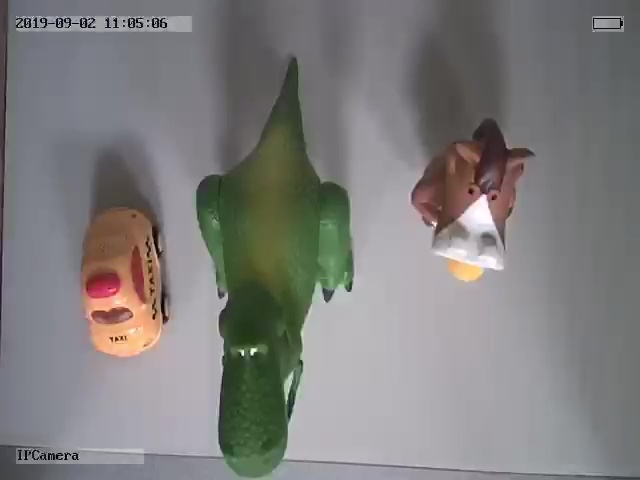car: (79, 205, 171, 357)
horse: (411, 118, 534, 284)
rex: (195, 77, 354, 477)
